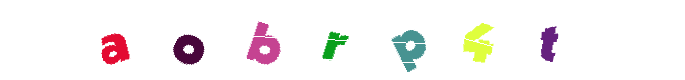4: (364, 0, 444, 80)
A: (75, 0, 155, 80)
B: (287, 0, 367, 80)
O: (224, 0, 304, 80)
P: (303, 0, 383, 80)
R: (293, 0, 373, 80)
T: (438, 0, 518, 80)
